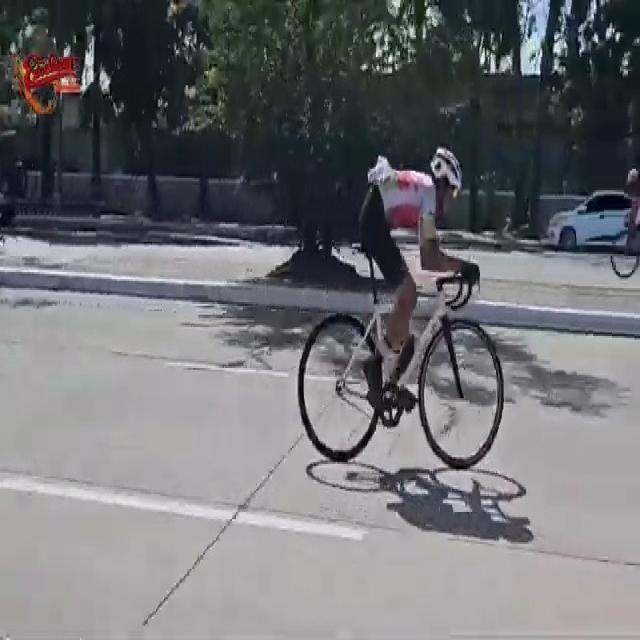bike: (293, 150, 505, 476), (608, 167, 640, 278)
car: (544, 186, 632, 251)
